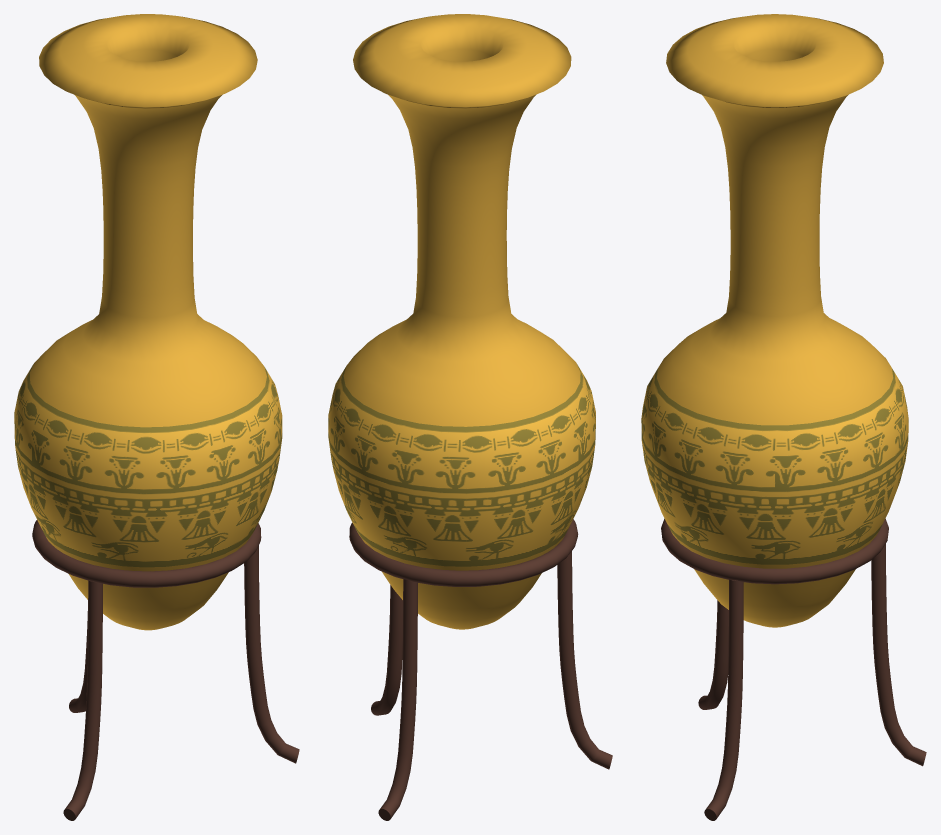
Rendered from vase_new.fbx.
3 views of the same model, side by side, from view 1: azimuth 30°, elevation 25°; view 2: azimuth 150°, elevation 25°; view 3: azimuth 270°, elevation 25° (orthographic).
Parts seen in each view (by area): view 1: vase, ring, leg, leg1; view 2: vase, ring, leg2, leg, leg1; view 3: vase, ring, leg1, leg2, leg.
Part boxes in pixels (x1,y1,x2,y2): vase: [14, 14, 282, 630]; ring: [32, 520, 261, 587]; leg: [63, 580, 102, 820]; leg1: [244, 545, 299, 763]; vase: [328, 14, 595, 629]; ring: [349, 519, 578, 586]; leg2: [378, 579, 417, 820]; leg: [557, 551, 612, 769]; leg1: [371, 585, 402, 715]; vase: [641, 14, 908, 627]; ring: [661, 518, 888, 584]; leg1: [704, 579, 743, 820]; leg2: [871, 544, 926, 766]; leg: [698, 600, 728, 709].
Bounding box in the file's own units: 1.08 × 3.15 × 1.13.
Materials: 3 (1 with a texture image).
